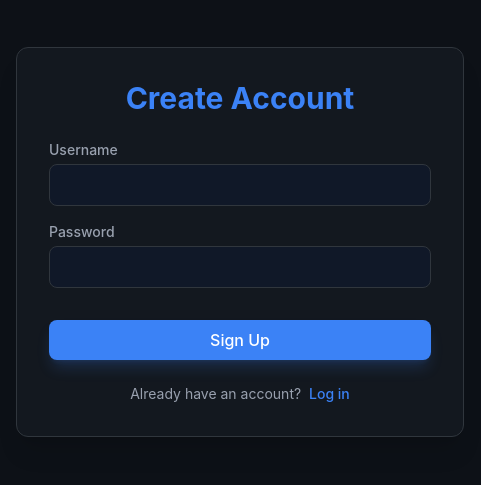
Signup Page — form submission › server error is displayed
Type "existinguser" into the field at (240, 185), box [49, 164, 431, 206]
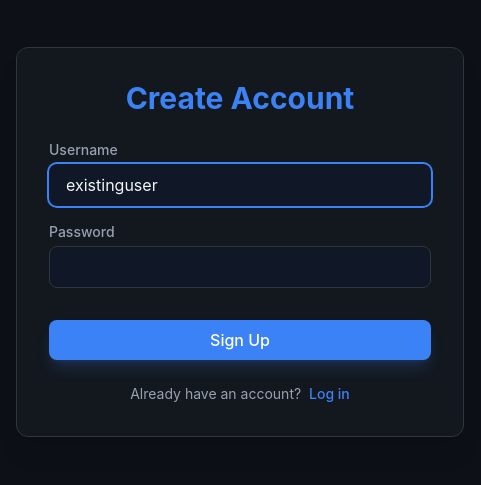
Type "password123" into the password field at (240, 267), box [49, 246, 431, 288]
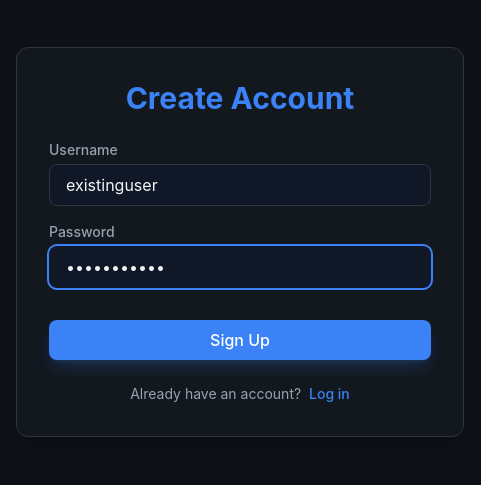
Click the button "Sign Up" at (240, 340), box [49, 320, 431, 360]
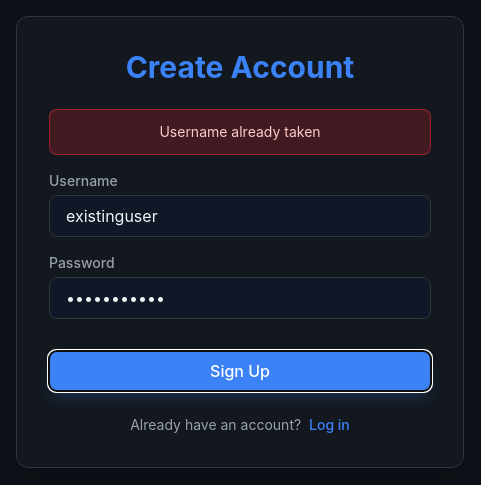
Now the text "Username already taken" is shown, box [49, 109, 431, 155]
